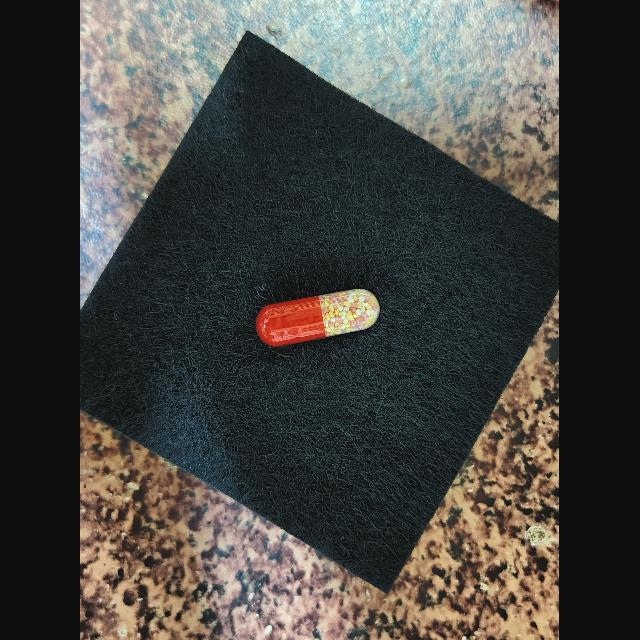Intact Capsule: (257, 289, 381, 347)
